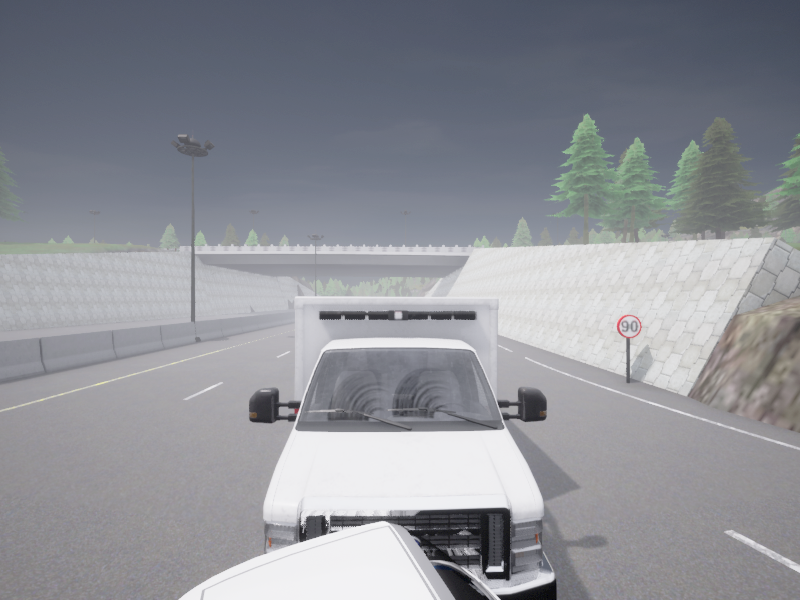vehicle: (249, 297, 556, 599), (179, 522, 499, 599)
